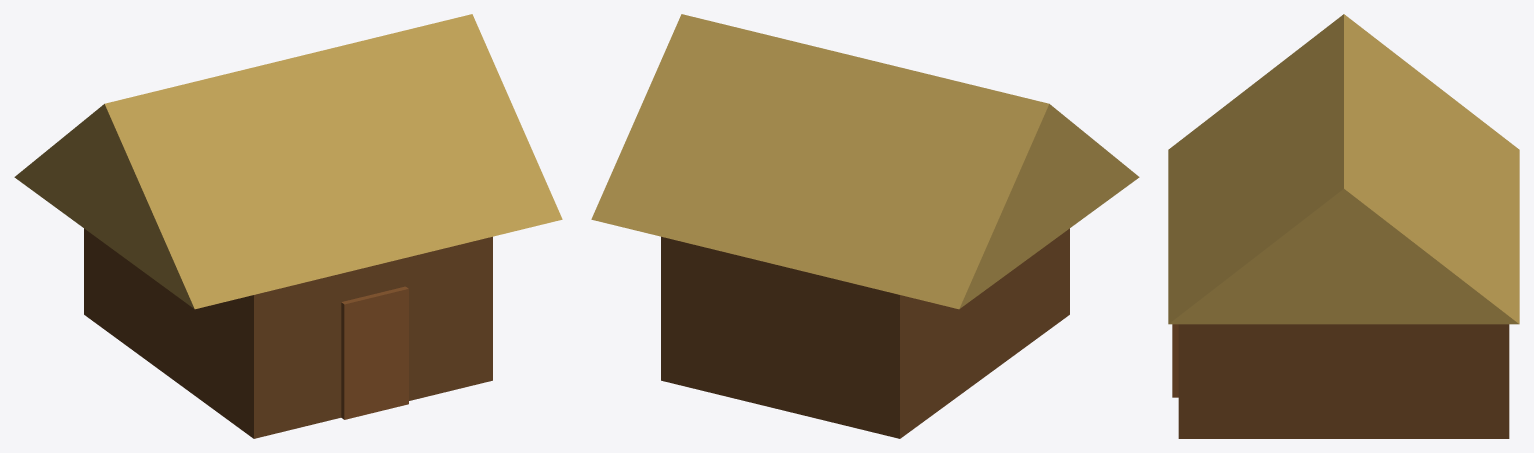
Rendered from small_hut.glb.
3 views of the same model, side by side, from view 1: azimuth 30°, elevation 25°; view 2: azimuth 150°, elevation 25°; view 3: azimuth 270°, elevation 25° (orthographic). The views are drawn at different scales.
Visible parts, largest first — view 1: small_hut; view 2: small_hut; view 3: small_hut.
Boxes of the visible parts, x1,y1,x2,y2 form: small_hut: (14, 14, 562, 438); small_hut: (591, 14, 1139, 438); small_hut: (1168, 14, 1519, 438).
Size of the model in its own units: 4 by 3 by 3.4.
